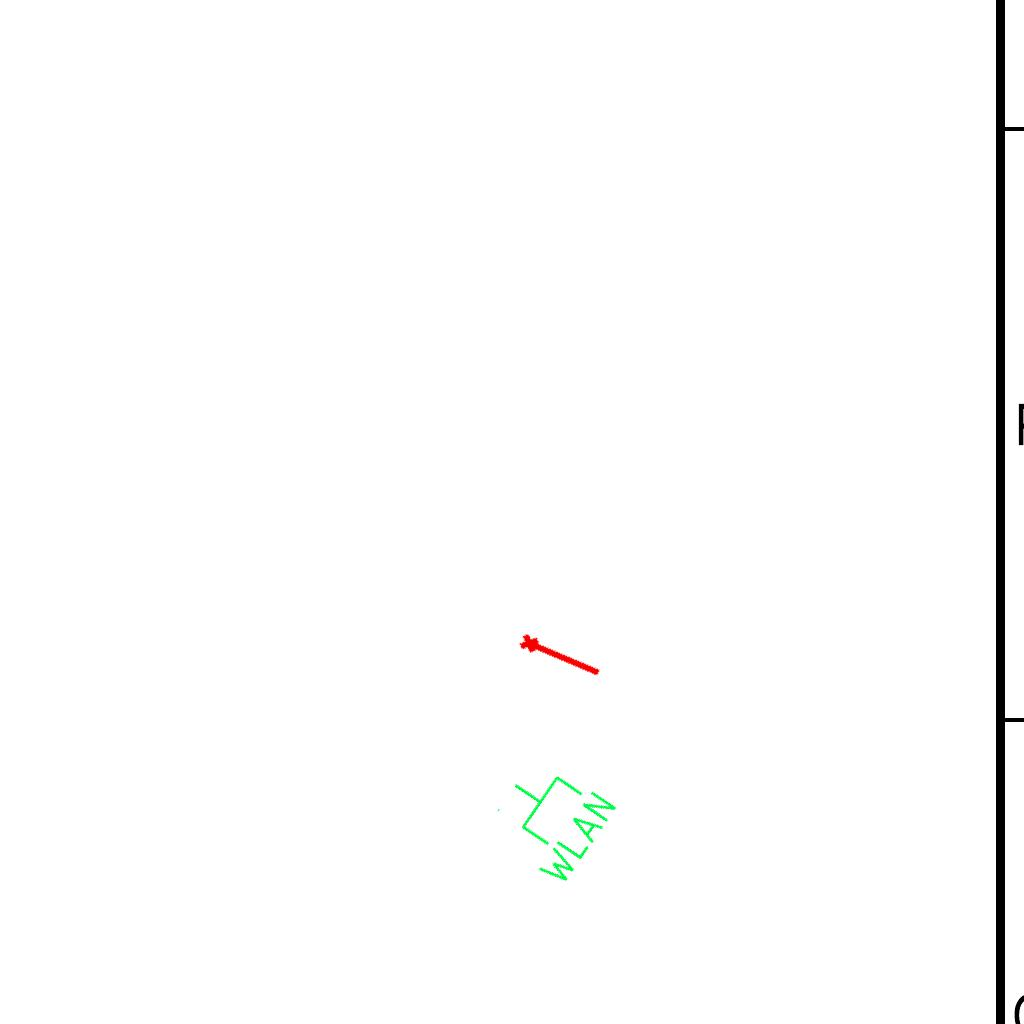ASR_Ansaugoeffnung: (516, 627, 606, 684)
WLAN: (477, 747, 623, 894)
